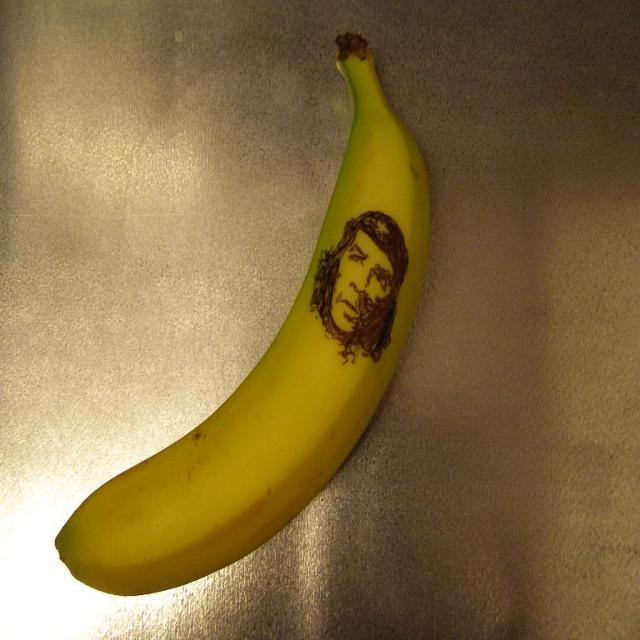Banana: (52, 28, 430, 602)
